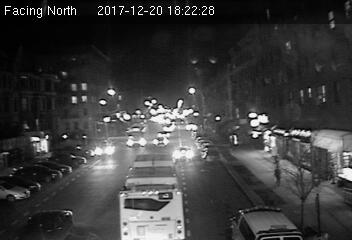bus: (119, 152, 189, 240)
car: (92, 140, 116, 156), (173, 146, 193, 161), (153, 135, 169, 146)
police: (227, 204, 301, 240)
